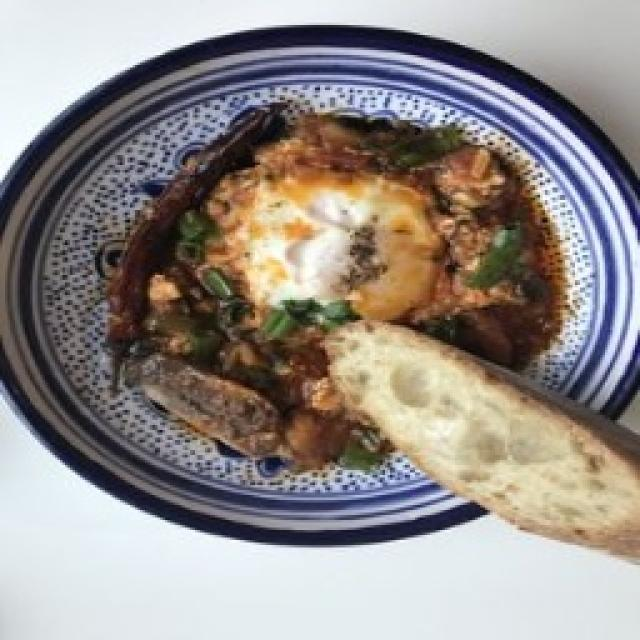Chakchouka: (108, 107, 562, 472)
